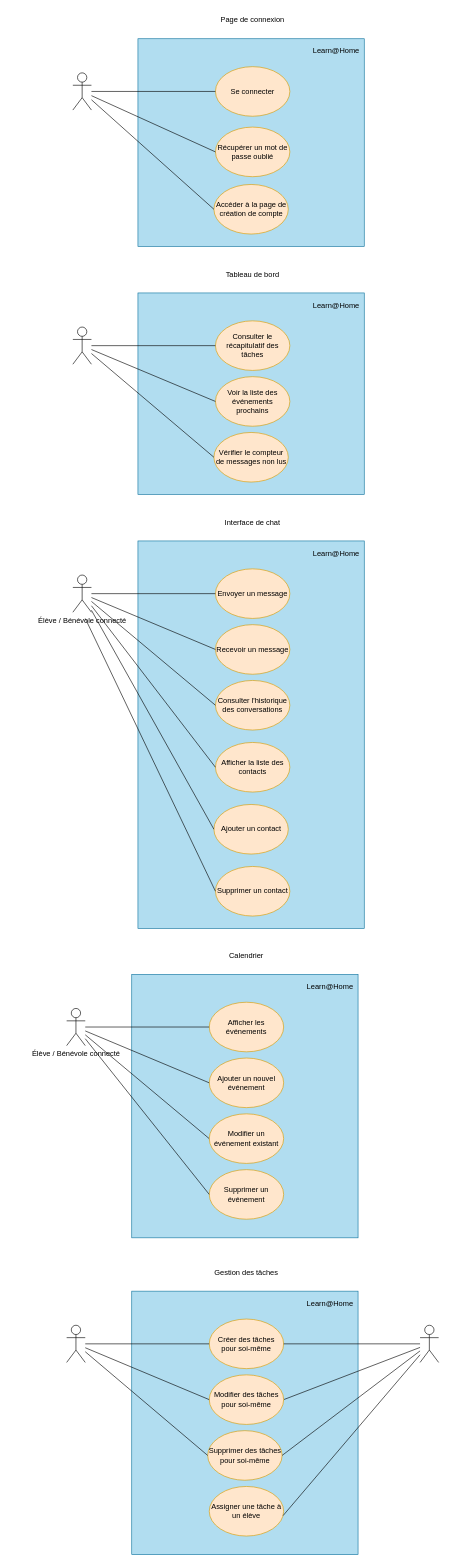
Image size: 471x1566. Some labels were removed from this diagram. Each missing label, with the centre of its shape:
"Bénévole connecté" goes at point (429, 1343).
"Élève / Tuteur bénévole" goes at point (81, 91).
"Élève connecté" goes at point (75, 1343).
"Élève connecté / Tuteur bénévole connecté" goes at point (81, 345).
